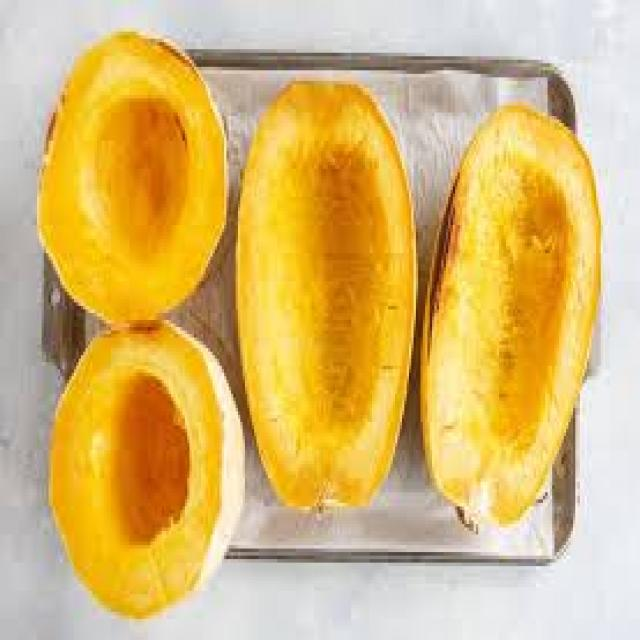organic waste: (416, 98, 598, 538), (231, 78, 414, 514), (30, 28, 226, 327), (46, 316, 243, 612)
